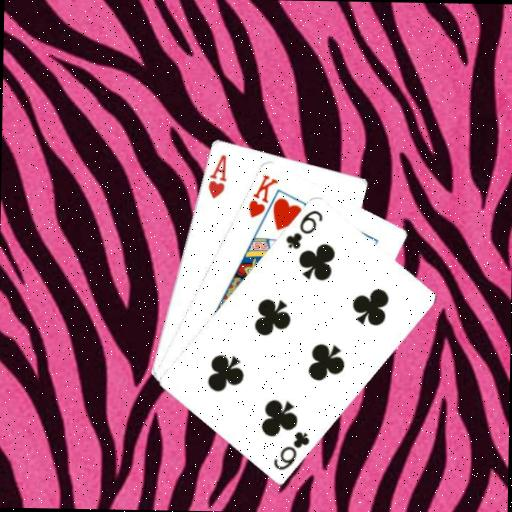6C: (282, 205, 325, 251), (270, 427, 311, 472)
AH: (205, 151, 229, 200)
KH: (245, 170, 280, 220)
